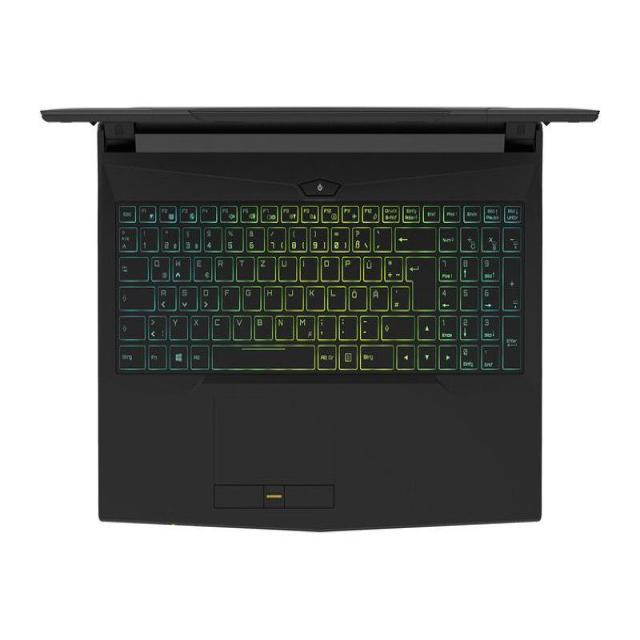0: (328, 223, 347, 248)
1: (140, 226, 158, 251)
2: (160, 225, 179, 251)
3: (181, 225, 200, 251)
4: (204, 224, 223, 250)
5: (224, 226, 242, 252)
6: (244, 223, 263, 248)
7: (265, 223, 284, 250)
8: (288, 225, 307, 252)
9: (307, 223, 327, 250)
a: (157, 285, 175, 310)
accent: (372, 226, 391, 252)
ae: (369, 285, 388, 310)
alt-left: (190, 344, 209, 369)
altgr-right: (317, 345, 336, 370)
b: (253, 313, 272, 339)
c: (211, 313, 230, 339)
caret: (117, 225, 137, 251)
comma: (317, 314, 335, 339)
d: (199, 284, 218, 309)
del: (395, 227, 436, 252)
e: (194, 254, 212, 280)
enter: (406, 255, 436, 310)
f: (221, 284, 239, 309)
g: (241, 285, 259, 310)
h: (264, 284, 283, 309)
hash: (390, 284, 409, 309)
i: (299, 255, 317, 280)
j: (284, 284, 302, 310)
k: (305, 284, 324, 309)
keyboard: (108, 188, 526, 378)
l: (327, 285, 346, 310)
less: (148, 314, 167, 339)
m: (296, 312, 315, 339)
minus: (360, 314, 379, 339)
n: (275, 314, 294, 339)
o: (320, 255, 338, 280)
oe: (348, 284, 367, 310)
p: (342, 253, 360, 279)
plus: (384, 255, 403, 282)
point: (338, 313, 357, 339)
q: (150, 254, 169, 280)
r: (216, 256, 235, 282)
s: (178, 284, 197, 309)
shift-left: (118, 313, 146, 338)
shift-lock: (119, 285, 154, 309)
shift-right: (380, 314, 414, 340)
space: (211, 344, 314, 369)
ss: (351, 225, 370, 251)
strg-left: (116, 344, 145, 369)
strg-right: (360, 344, 395, 369)
t: (236, 254, 254, 280)
tab: (119, 255, 148, 279)
u: (278, 255, 296, 280)
ue: (362, 255, 381, 282)
v: (232, 313, 250, 338)
w: (172, 254, 191, 280)
x: (190, 313, 209, 339)
y: (168, 313, 187, 339)
z: (258, 255, 275, 280)
